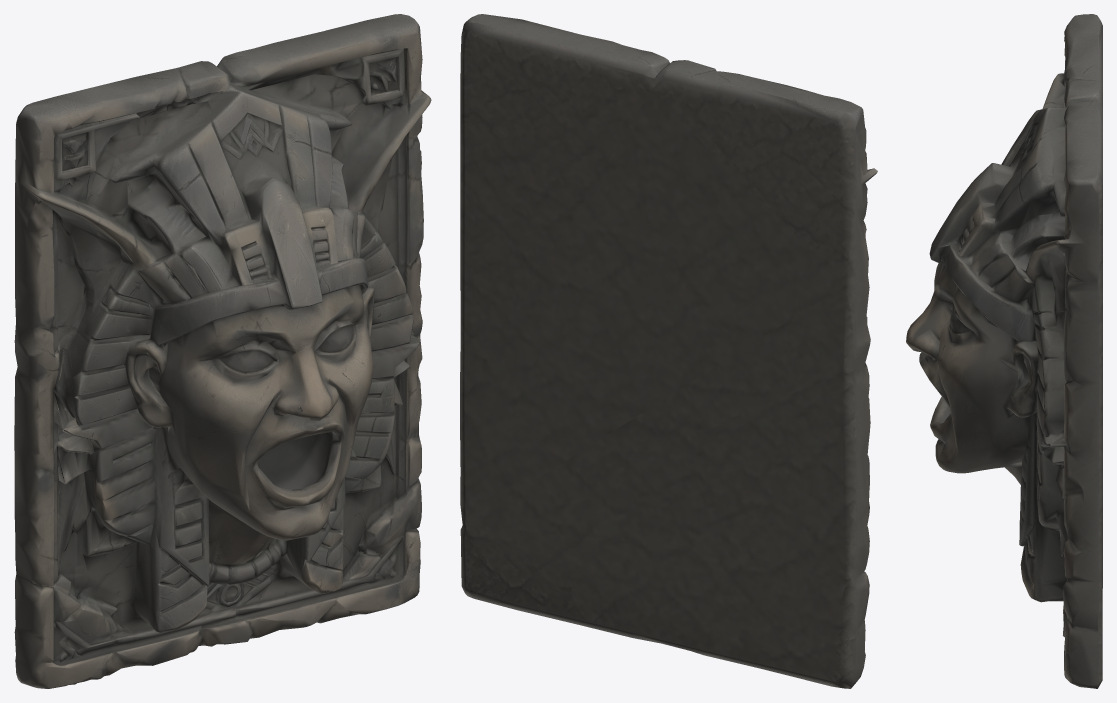
The model's file is Wall_Crystal_Holder.glb.
3 views of the same model, side by side, from view 1: azimuth 30°, elevation 25°; view 2: azimuth 150°, elevation 25°; view 3: azimuth 270°, elevation 25° (orthographic). The views are drawn at different scales.
Parts seen in each view (by area): view 1: Mesh_0; view 2: Mesh_0; view 3: Mesh_0.
Boxes of the visible parts, left/top/right/bottom form: Mesh_0: left=14, top=14, right=431, bottom=688; Mesh_0: left=460, top=14, right=877, bottom=688; Mesh_0: left=906, top=14, right=1102, bottom=688.
Bounding box in the file's own units: 1.37 × 1.9 × 0.662.
1 material, 1 textured.
